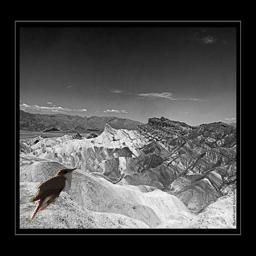Cuckoo: (28, 167, 78, 226)
